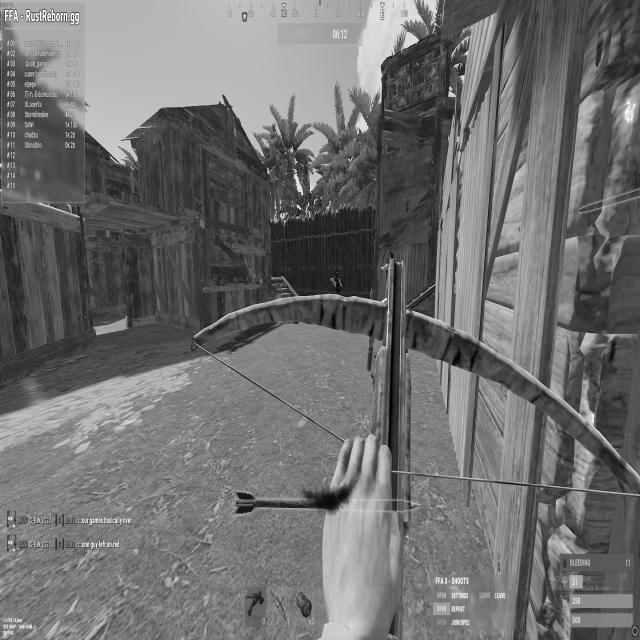Player: (380, 251, 400, 287), (330, 271, 345, 294), (334, 270, 340, 281), (387, 251, 393, 261)
